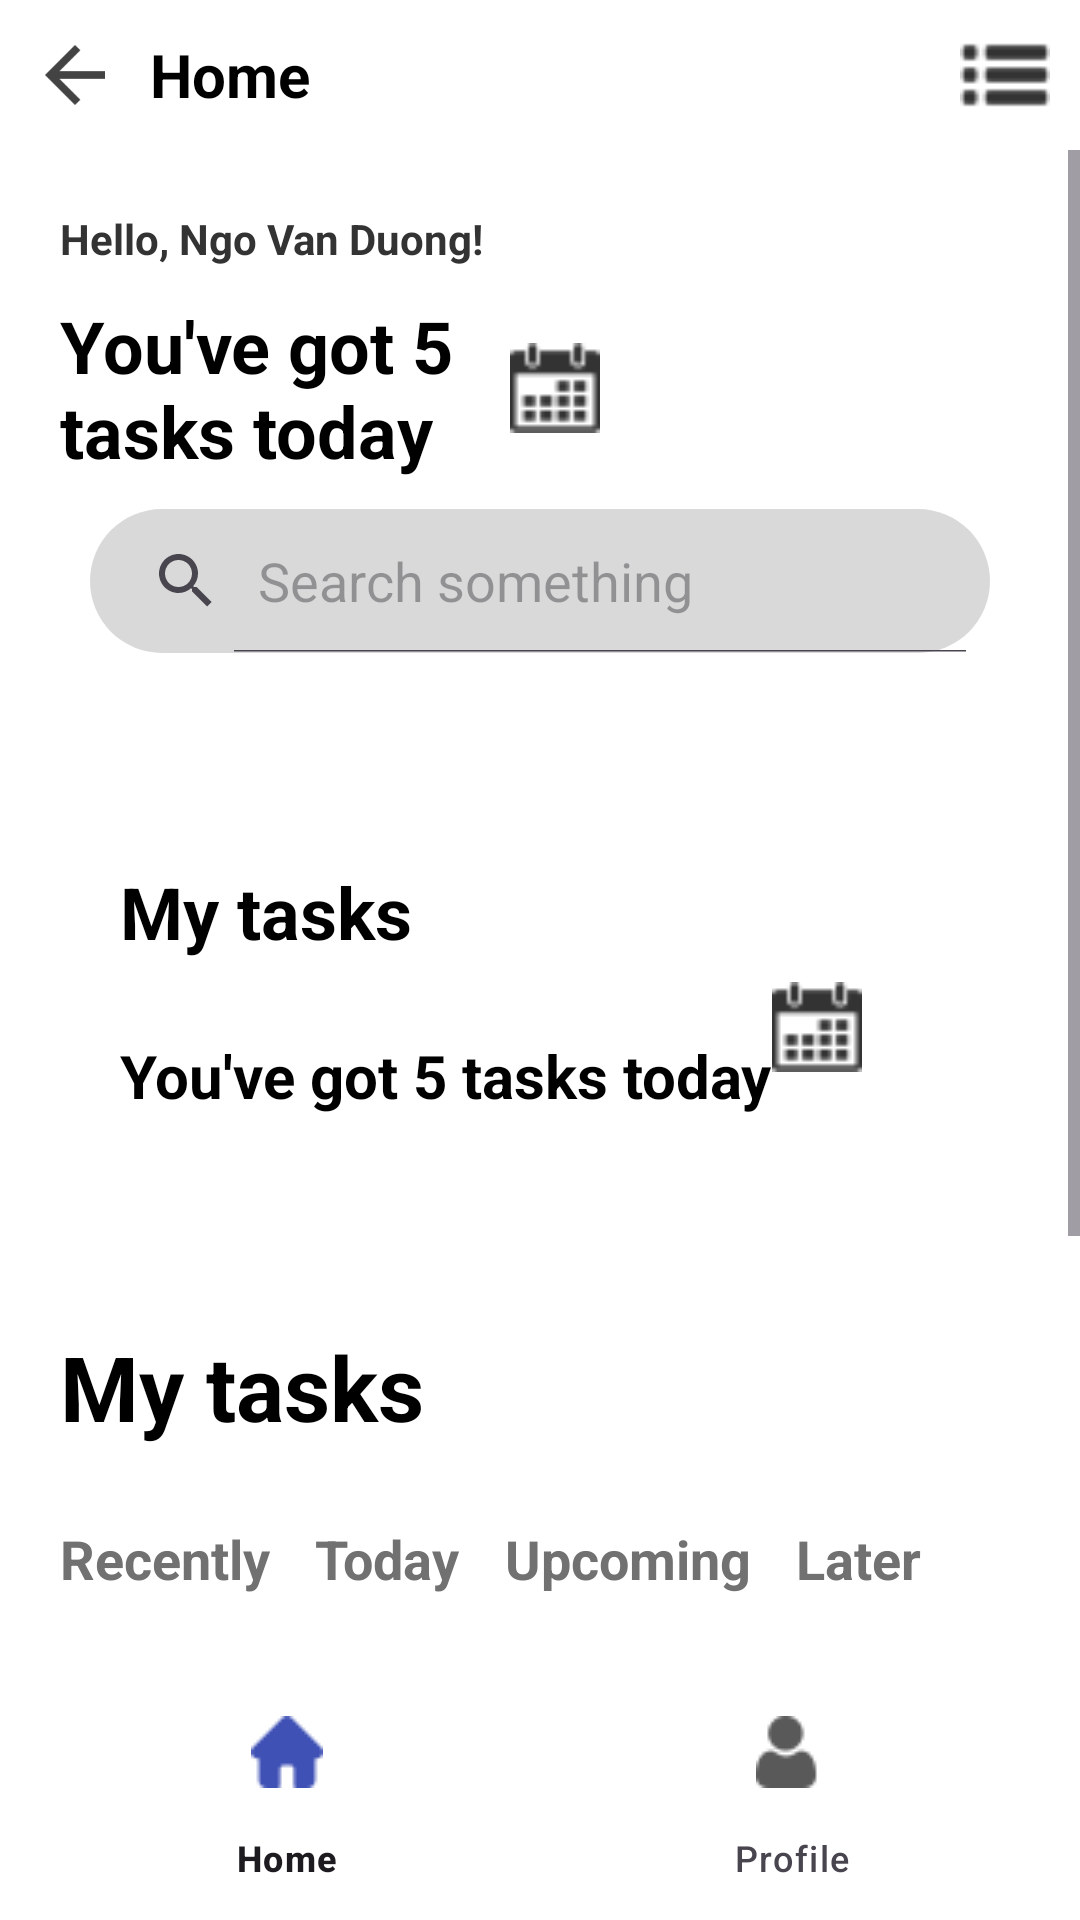

Named icons in this screenshot (1080 × 1920) and their bounding boxes, Rect(x1, y1, x2, y2):
arrow back: Rect(45, 45, 105, 105)
calendar: Rect(510, 343, 600, 433), Rect(772, 982, 862, 1072)
